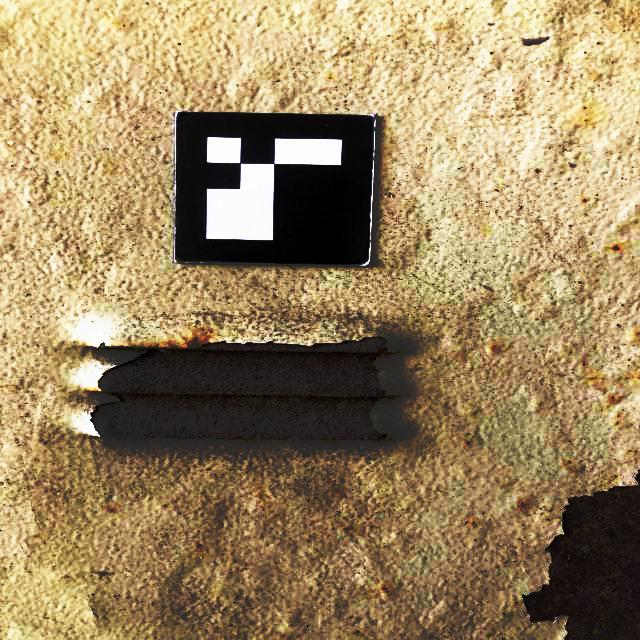Corrosion: (91, 337, 388, 441), (523, 471, 640, 640)
